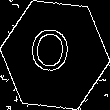O_S: (33, 27, 77, 83)
